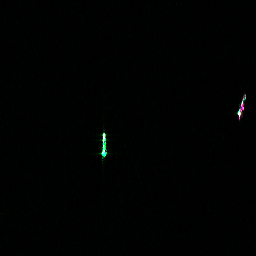ship: (234, 91, 249, 120), (99, 130, 109, 158)
